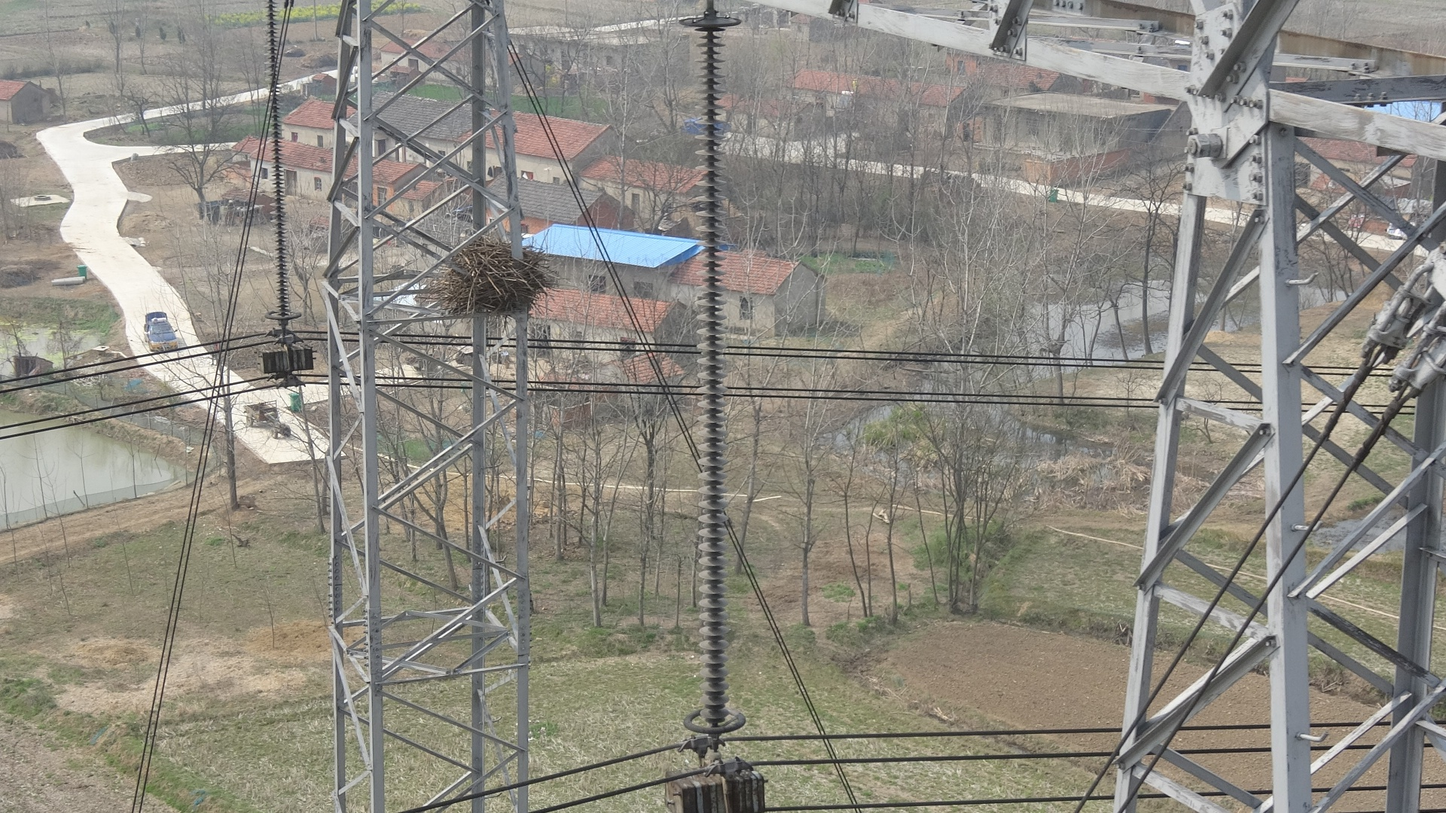insulator: (682, 23, 737, 726), (261, 1, 294, 315)
